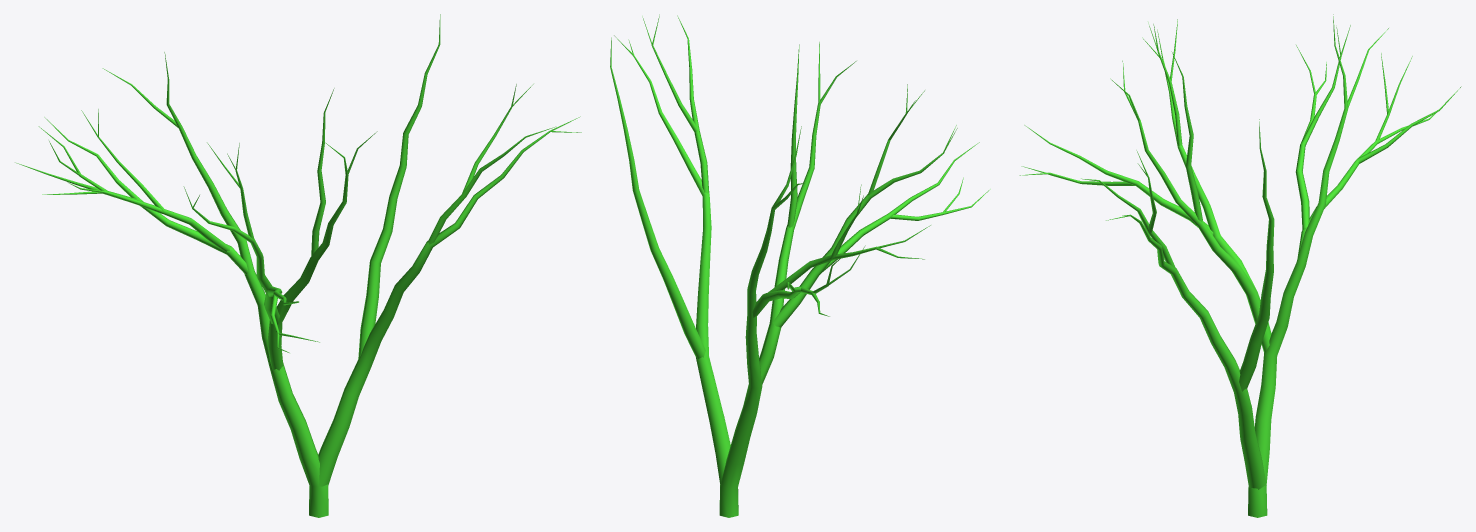
The model's file is Tree_16.fbx.
3 views of the same model, side by side, from view 1: azimuth 30°, elevation 25°; view 2: azimuth 150°, elevation 25°; view 3: azimuth 270°, elevation 25° (orthographic). The views are drawn at different scales.
Visible parts, largest first — view 1: Tree_16; view 2: Tree_16; view 3: Tree_16.
Part boxes in pixels (x1,y1,x2,y2): Tree_16: [15, 14, 581, 517]; Tree_16: [610, 14, 990, 517]; Tree_16: [1019, 14, 1461, 517].
Size of the model in its own units: 172 by 178 by 158.
